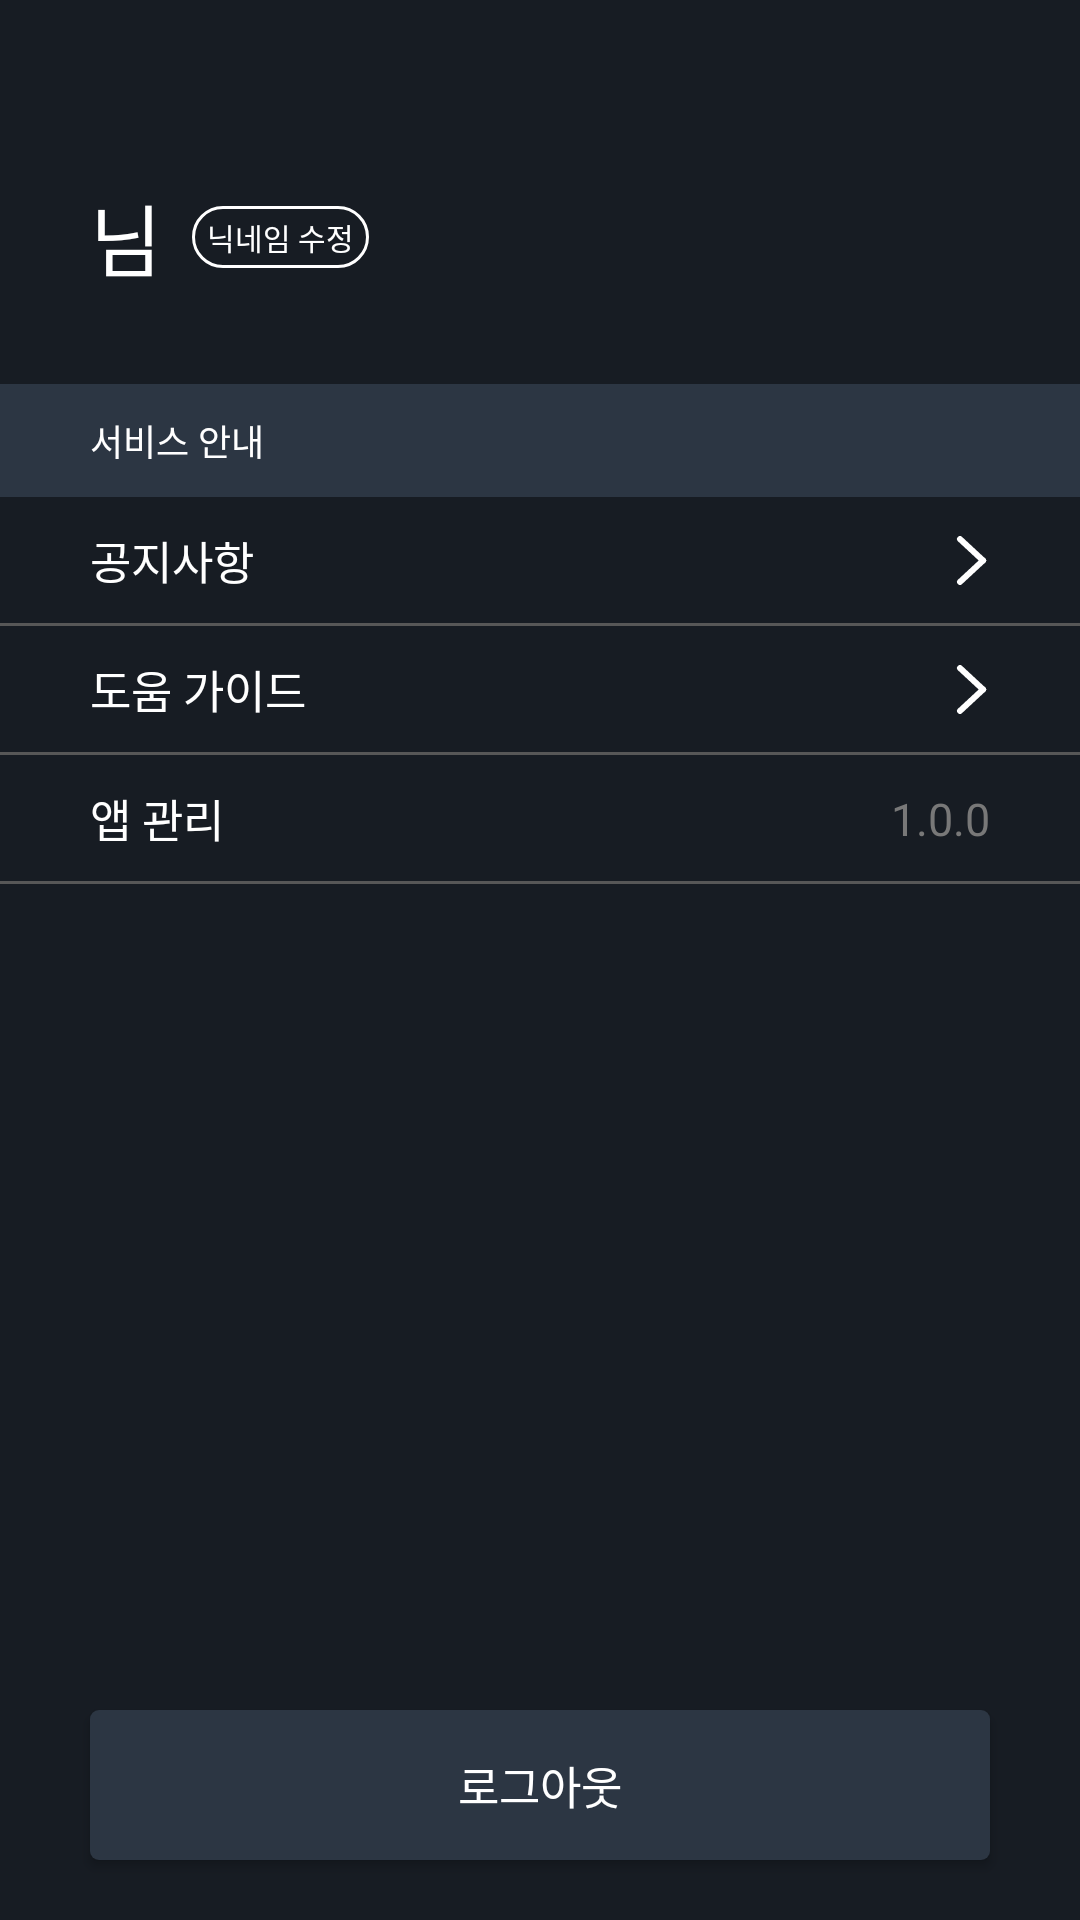

Locate icon controls on the screen. Image size 1080 × 1920, boxes as [left=x1, top=y1, right=x2, bottom=y2].
detail: [left=957, top=536, right=987, bottom=585], [left=957, top=665, right=987, bottom=714]
